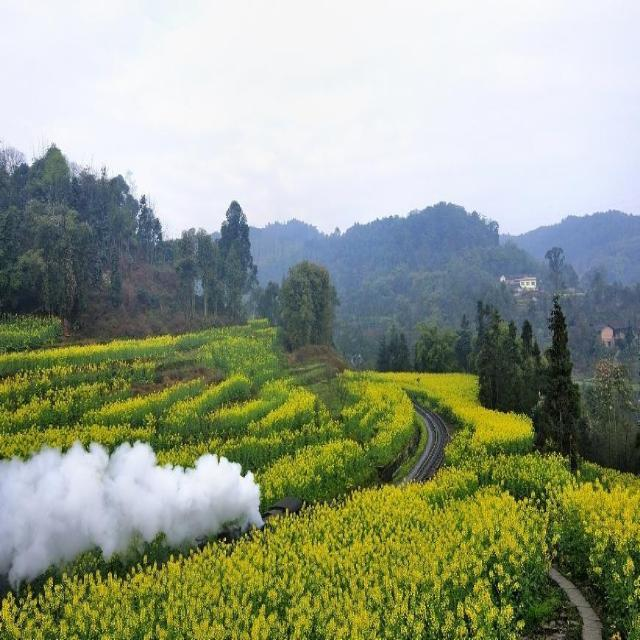Smoke: (0, 438, 264, 597)
